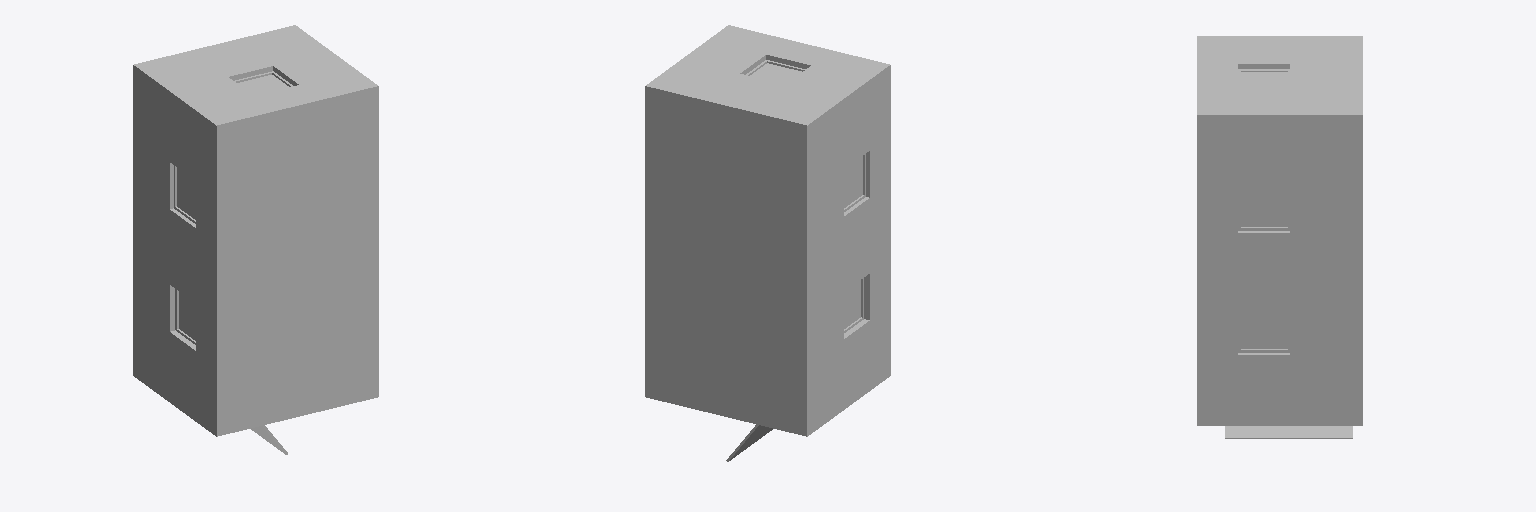
The model's file is Raum 1.obj.
3 renders of one model, left to right at view 1: azimuth 30°, elevation 25°; view 2: azimuth 150°, elevation 25°; view 3: azimuth 270°, elevation 25°, orthographic.
Parts seen in each view (by area): view 1: Decke, Wand, Boden, Fenster002, Fenster004, Fenster003; view 2: Boden, Wand, Fenster002, Fenster004, Fenster003, Decke; view 3: Wand, Boden, Fenster, Fenster001, Tür, Decke, Fenster003.
Boxes of the visible parts, <box> form: Decke: <box>211,88,378,435</box>; Wand: <box>138,29,378,436</box>; Boden: <box>133,25,299,378</box>; Fenster002: <box>174,166,195,223</box>; Fenster004: <box>175,289,195,344</box>; Fenster003: <box>234,71,292,95</box>; Boden: <box>645,82,812,436</box>; Wand: <box>651,25,890,431</box>; Fenster002: <box>844,154,865,211</box>; Fenster004: <box>844,278,863,332</box>; Fenster003: <box>746,60,805,83</box>; Decke: <box>729,25,890,369</box>; Wand: <box>1197,36,1352,425</box>; Boden: <box>1353,36,1362,425</box>; Fenster: <box>1238,186,1289,230</box>; Fenster001: <box>1238,308,1289,352</box>; Tür: <box>1225,426,1352,438</box>; Decke: <box>1197,36,1206,425</box>; Fenster003: <box>1238,69,1289,85</box>.
Size of the model in its own units: 3600 by 7662 by 3200.